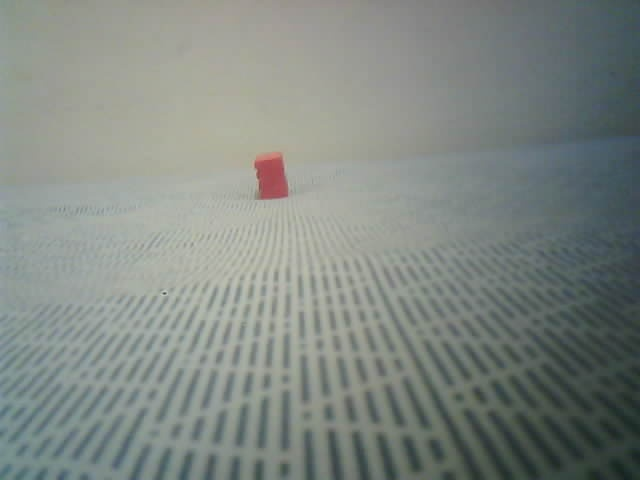lego: (253, 151, 288, 200)
